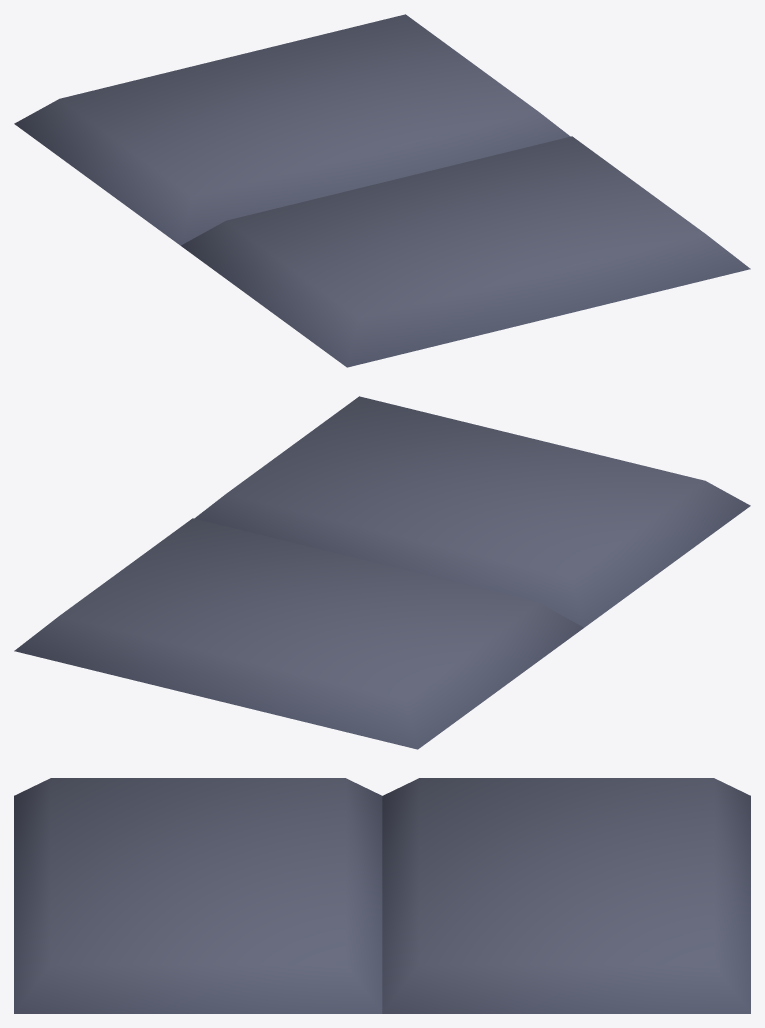
The model's file is path-stones-short.glb.
3 renders of one model, top to bottom at view 1: azimuth 30°, elevation 25°; view 2: azimuth 150°, elevation 25°; view 3: azimuth 270°, elevation 25°, orthographic. The views are drawn at different scales.
Parts seen in each view (by area): view 1: path-stones-short; view 2: path-stones-short; view 3: path-stones-short.
Boxes of the visible parts, x1=… form: path-stones-short: x1=14, y1=14, x2=750, y2=367; path-stones-short: x1=14, y1=396, x2=750, y2=749; path-stones-short: x1=14, y1=778, x2=750, y2=1013.
Size of the model in its own units: 0.14 by 0.01 by 0.2.
